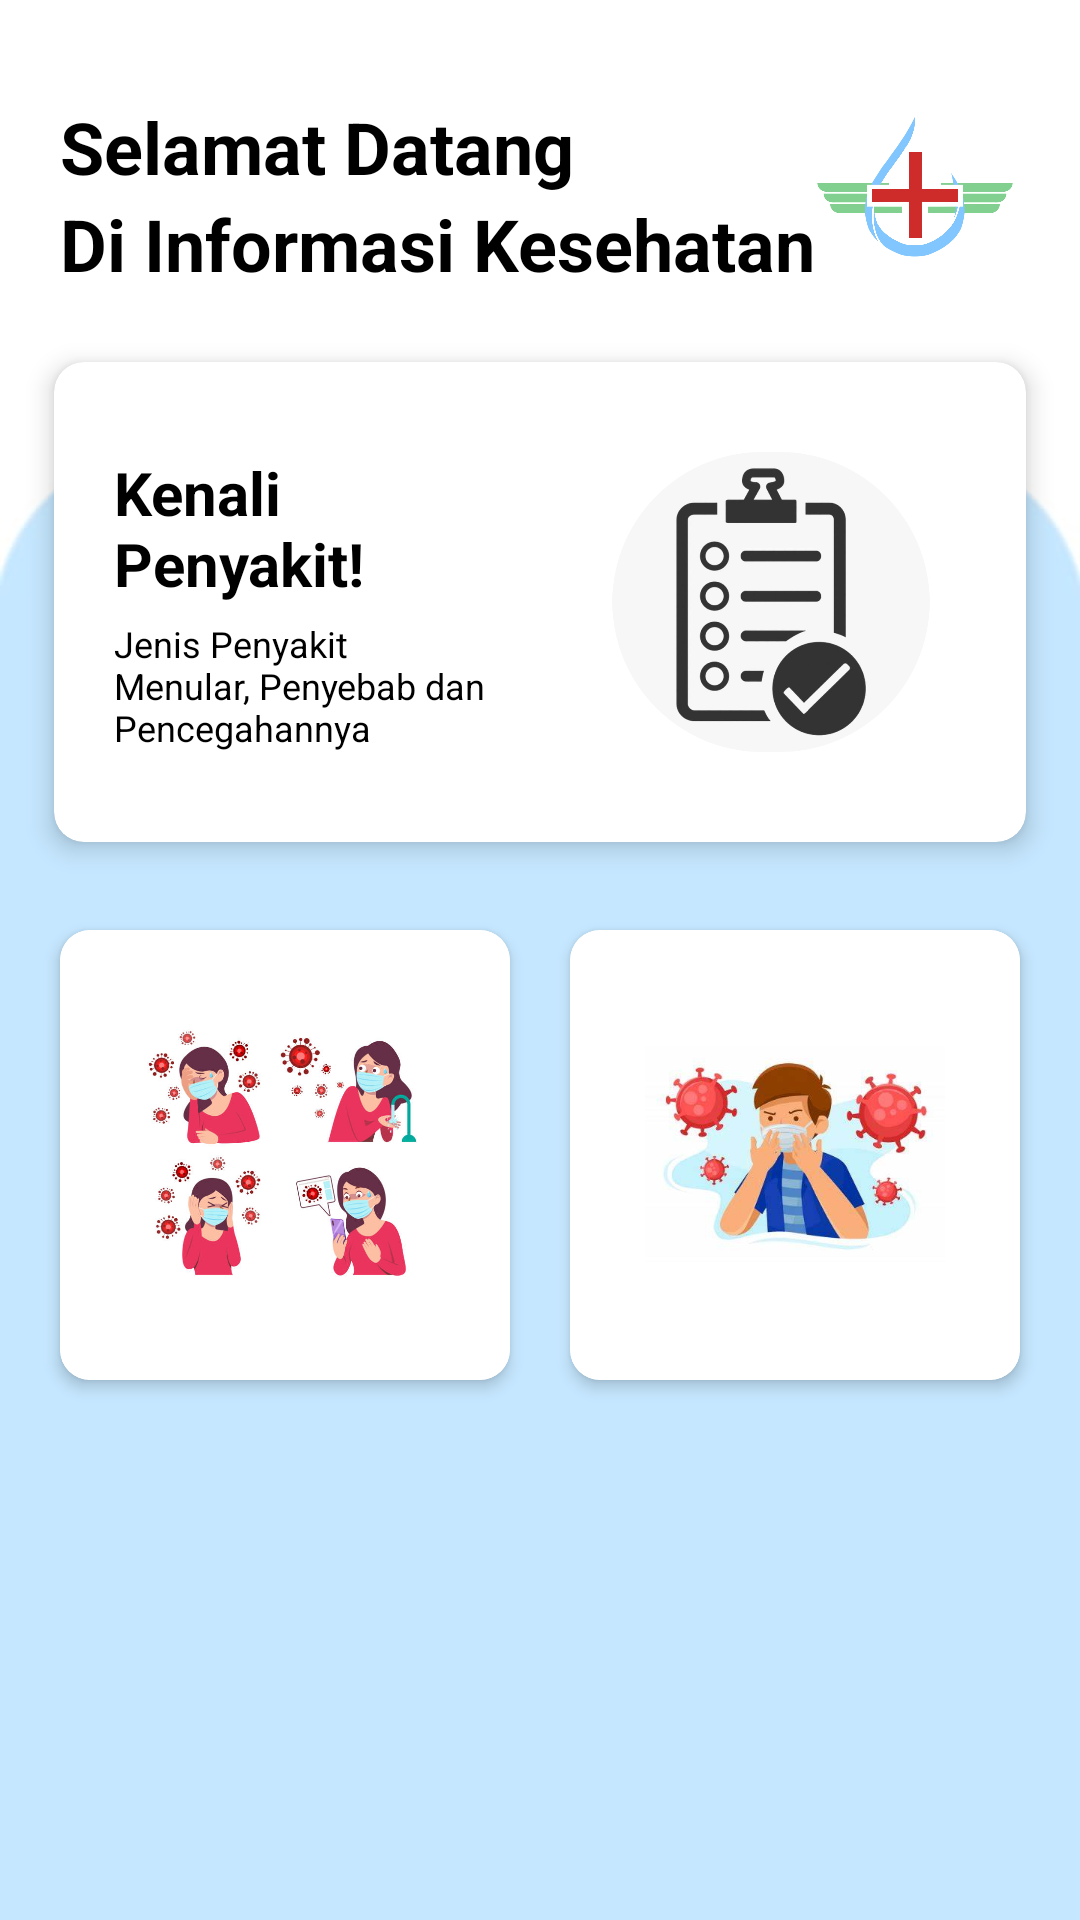

Named icons in this screenshot (1080*1920) and their bounding boxes, [x1, y1, x2, y2]:
gambar: [148, 1031, 417, 1276], [664, 1062, 927, 1250]
listt: [676, 468, 866, 736]
